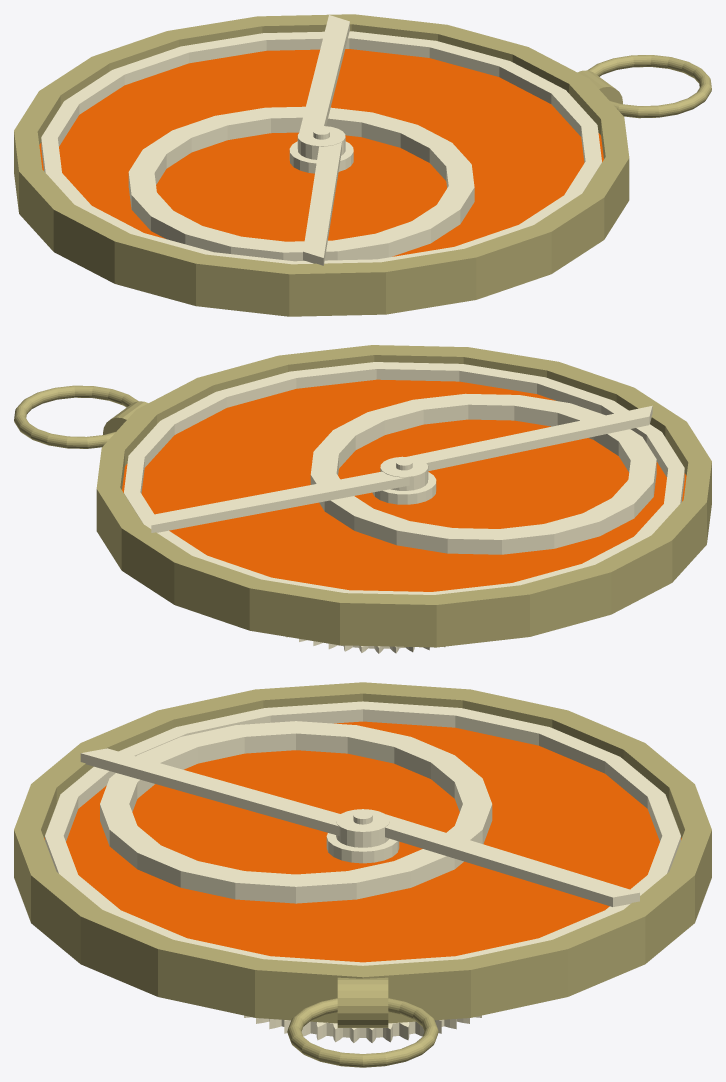
Rendered from Astrolabe.fbx.
3 renders of one model, top to bottom at view 1: azimuth 30°, elevation 25°; view 2: azimuth 150°, elevation 25°; view 3: azimuth 270°, elevation 25°, orthographic. The views are drawn at different scales.
Visible parts, largest first — view 1: Astrolabe; view 2: Astrolabe; view 3: Astrolabe.
Boxes of the visible parts, x1,y1,x2,y2 form: Astrolabe: (14,14,711,316); Astrolabe: (14,345,711,653); Astrolabe: (14,682,711,1067).
Bounding box in the file's own units: 193 × 21.59 × 159.
